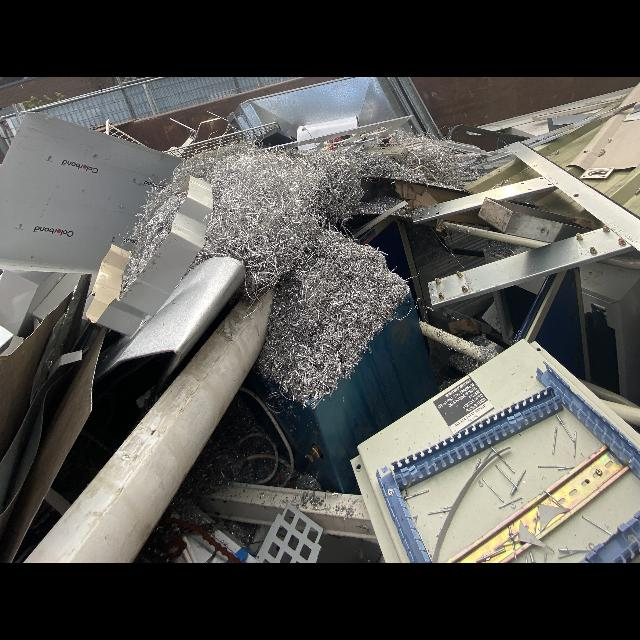Aluminium: (126, 140, 418, 405), (478, 87, 636, 131)
Brass: (550, 444, 630, 514), (589, 246, 597, 255), (618, 238, 626, 246), (575, 233, 583, 241), (456, 270, 463, 278), (602, 225, 609, 232), (434, 278, 441, 284), (462, 286, 468, 293), (439, 292, 444, 300)
Ferrous Metal: (28, 291, 273, 563), (348, 339, 639, 563), (281, 295, 441, 494), (0, 113, 181, 275), (0, 328, 106, 562), (441, 414, 601, 563), (91, 177, 213, 334), (0, 293, 72, 459), (405, 445, 504, 542), (0, 380, 50, 514), (533, 116, 610, 179), (566, 108, 639, 170), (0, 271, 64, 335), (256, 503, 324, 563), (520, 188, 605, 231), (582, 167, 640, 216), (464, 158, 541, 193), (33, 274, 81, 320), (447, 125, 526, 149), (297, 116, 360, 138), (547, 113, 594, 131), (519, 521, 549, 548), (539, 504, 569, 526), (619, 82, 640, 107), (55, 350, 82, 369)
Galvanized Steel: (96, 257, 245, 378), (428, 230, 637, 309), (506, 142, 640, 251), (224, 77, 442, 135), (413, 178, 555, 224), (477, 198, 594, 241), (520, 103, 635, 145), (278, 115, 412, 149), (472, 153, 512, 168), (531, 133, 566, 148), (491, 148, 510, 155)
